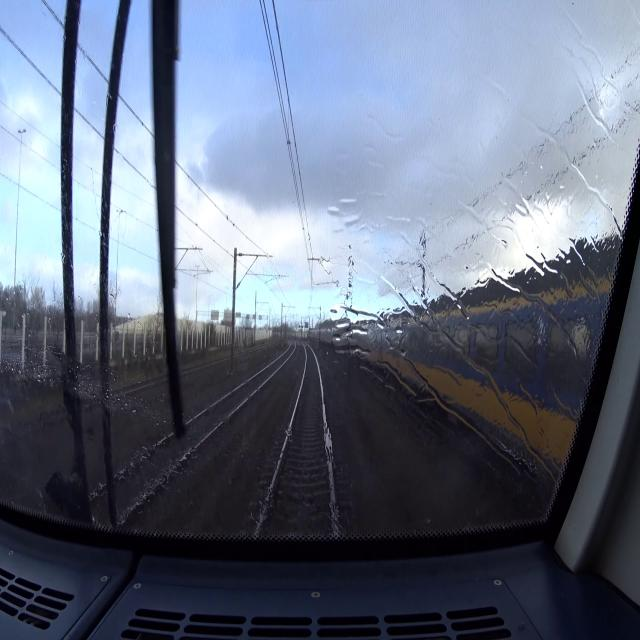rail-track: (94, 341, 294, 522), (259, 346, 333, 539), (42, 407, 81, 423)
